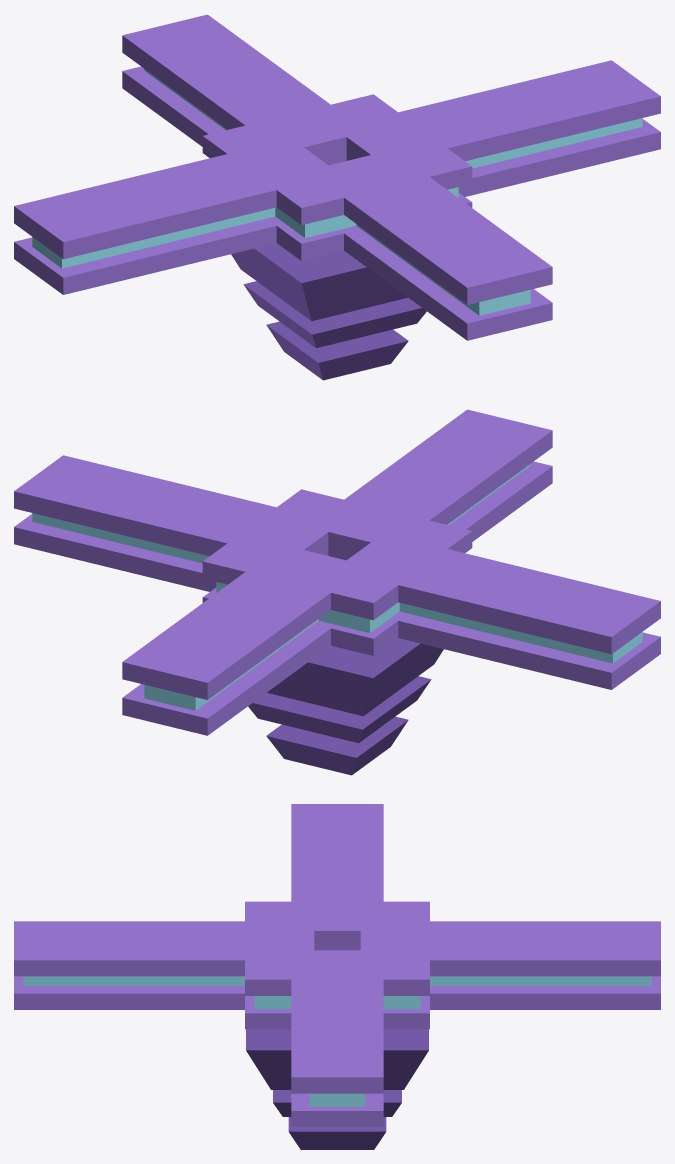
Rendered from 4PathsMap.fbx.
3 views of the same model, one above another, from view 1: azimuth 30°, elevation 25°; view 2: azimuth 150°, elevation 25°; view 3: azimuth 270°, elevation 25° (orthographic). The views are drawn at different scales.
Parts seen in each view (by area): view 1: Plane; view 2: Plane; view 3: Plane.
Boxes of the visible parts, bbox=[...] form: Plane: bbox=[14, 14, 660, 380]; Plane: bbox=[14, 409, 660, 775]; Plane: bbox=[14, 804, 660, 1149].
Size of the model in its own units: 7000 by 2313 by 7000.
